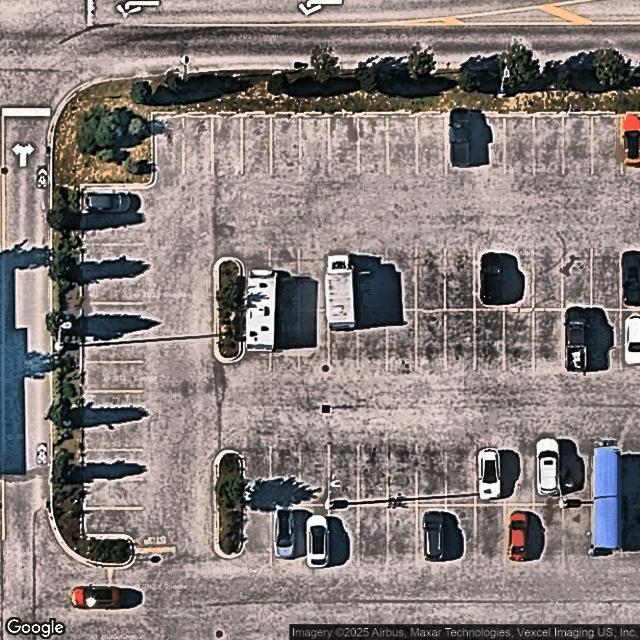car: (248, 270, 275, 351), (327, 255, 356, 330), (566, 303, 589, 373), (451, 109, 473, 169), (537, 438, 559, 497), (307, 516, 330, 568), (480, 253, 503, 305), (275, 506, 297, 560), (479, 449, 501, 499), (423, 510, 444, 562), (510, 511, 529, 563), (84, 192, 132, 212), (623, 251, 640, 307), (624, 113, 640, 169), (624, 312, 640, 366)
lot_boundary: (81, 111, 639, 568)
objects: (596, 444, 627, 559)
stall: (299, 310, 330, 372), (269, 309, 300, 371), (592, 247, 623, 309), (182, 118, 214, 178), (502, 116, 533, 177), (532, 116, 563, 177), (562, 117, 593, 178), (592, 117, 623, 178), (534, 308, 564, 371), (153, 118, 184, 178), (447, 116, 478, 176), (446, 309, 476, 371), (329, 311, 359, 373), (590, 309, 620, 371), (387, 310, 417, 372), (358, 310, 387, 373), (387, 117, 417, 177), (329, 117, 359, 177), (563, 309, 592, 371), (417, 117, 447, 176), (416, 248, 445, 309), (447, 248, 476, 309), (299, 250, 328, 311), (328, 250, 357, 311), (386, 249, 415, 310), (506, 309, 534, 372), (358, 116, 387, 176), (301, 118, 330, 178), (563, 247, 592, 307), (476, 310, 505, 370), (358, 250, 387, 310), (271, 249, 300, 309), (84, 330, 144, 359), (84, 303, 144, 332), (84, 189, 144, 218), (84, 450, 144, 479), (82, 421, 142, 450), (84, 391, 144, 420), (301, 505, 331, 563), (300, 447, 330, 505), (273, 506, 303, 564), (244, 506, 274, 564), (243, 449, 273, 507), (388, 447, 418, 505), (535, 504, 565, 562), (476, 504, 506, 562), (446, 504, 476, 562), (505, 447, 535, 505), (477, 447, 507, 505), (563, 503, 593, 561), (565, 446, 595, 504), (214, 117, 242, 179), (272, 117, 300, 178), (476, 248, 504, 309), (534, 247, 562, 308), (504, 248, 532, 309), (273, 447, 302, 505), (418, 447, 447, 505), (388, 505, 417, 563), (358, 506, 387, 564), (359, 447, 388, 505), (329, 506, 358, 564), (330, 446, 359, 504), (535, 447, 564, 505), (505, 504, 534, 562), (447, 447, 476, 505), (419, 505, 448, 563), (244, 118, 272, 178), (83, 362, 143, 390), (84, 274, 144, 302), (84, 246, 144, 274), (84, 216, 144, 244), (84, 480, 144, 508), (243, 309, 270, 371), (418, 309, 445, 371), (246, 249, 271, 310), (478, 116, 503, 176), (84, 509, 143, 533), (622, 310, 640, 370), (623, 246, 640, 309), (623, 118, 640, 178)
